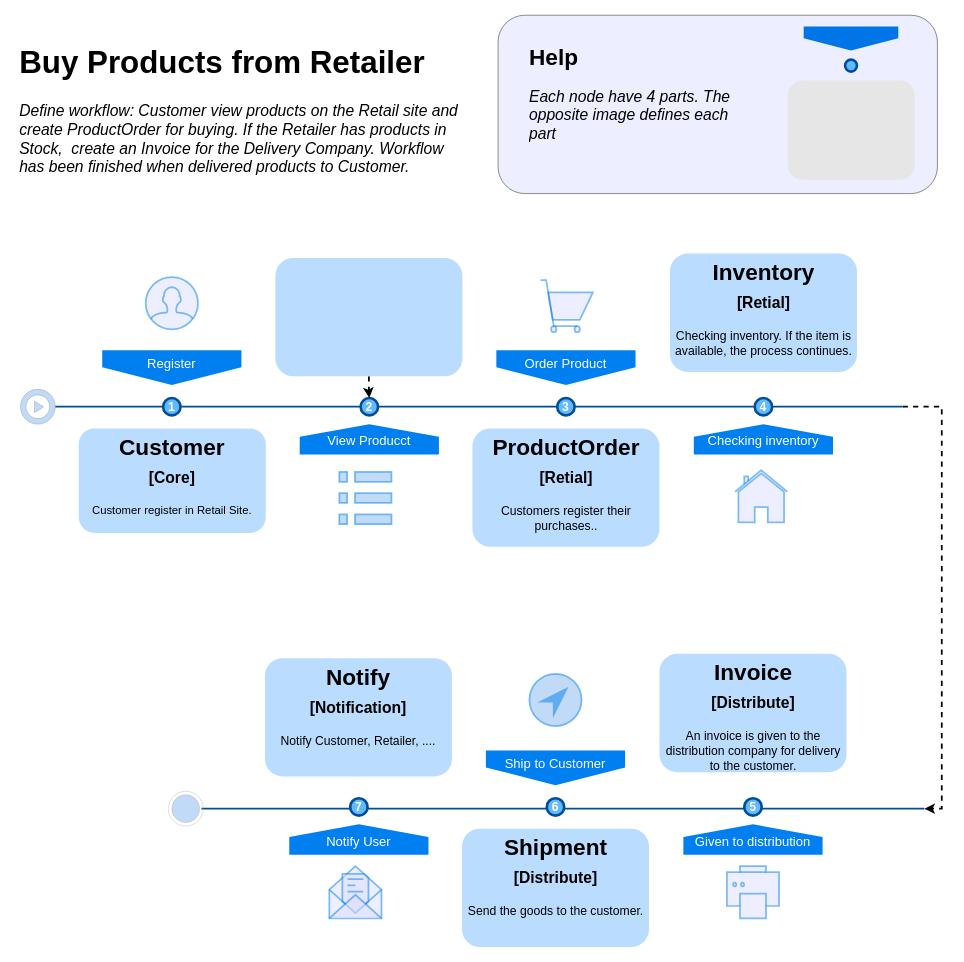
Some shapes in this 964 by 962 pixel diagram are drawn without their labels. The centre of each missing label's shape, as x and y in pixels:
Action: the point at 850,38
Entity [Module] Description: the point at 850,129
Product [Retial] Customers see the Products in the stores application.: the point at 368,317
